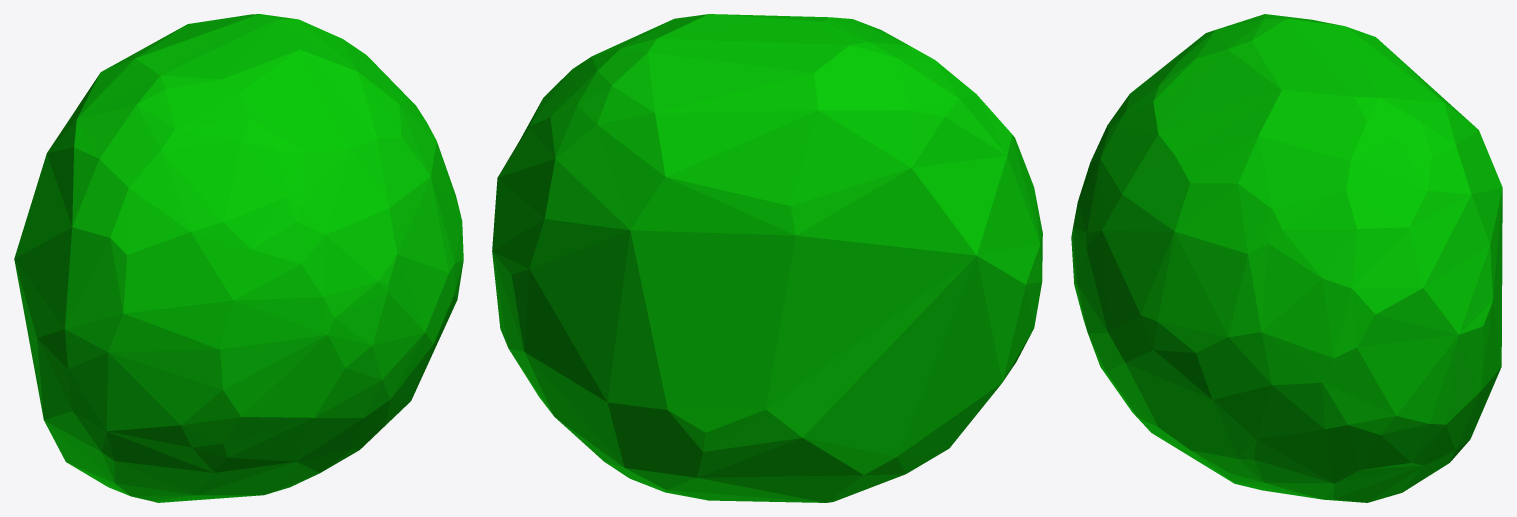
File: talos_rarm_rom.dae
3 views of the same model, side by side, from view 1: azimuth 30°, elevation 25°; view 2: azimuth 150°, elevation 25°; view 3: azimuth 270°, elevation 25° (orthographic). The views are drawn at different scales.
Visible parts, largest first — view 1: foo_001; view 2: foo_001; view 3: foo_001.
Part boxes in pixels (x1=…): foo_001: x1=14, y1=14, x2=463, y2=502; foo_001: x1=492, y1=14, x2=1042, y2=502; foo_001: x1=1071, y1=14, x2=1502, y2=502.
Size of the model in its own units: 1.65 by 1.41 by 1.51.
